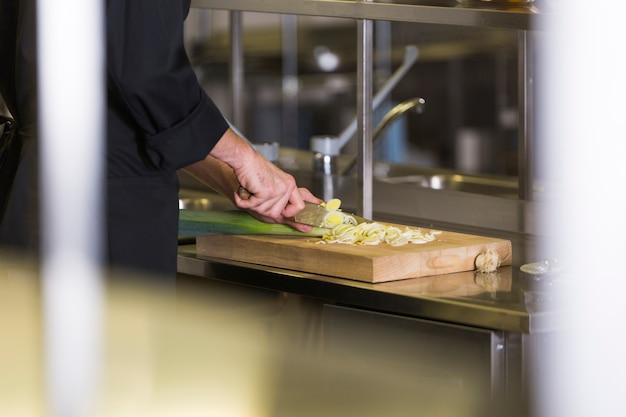knife: (289, 198, 377, 229)
